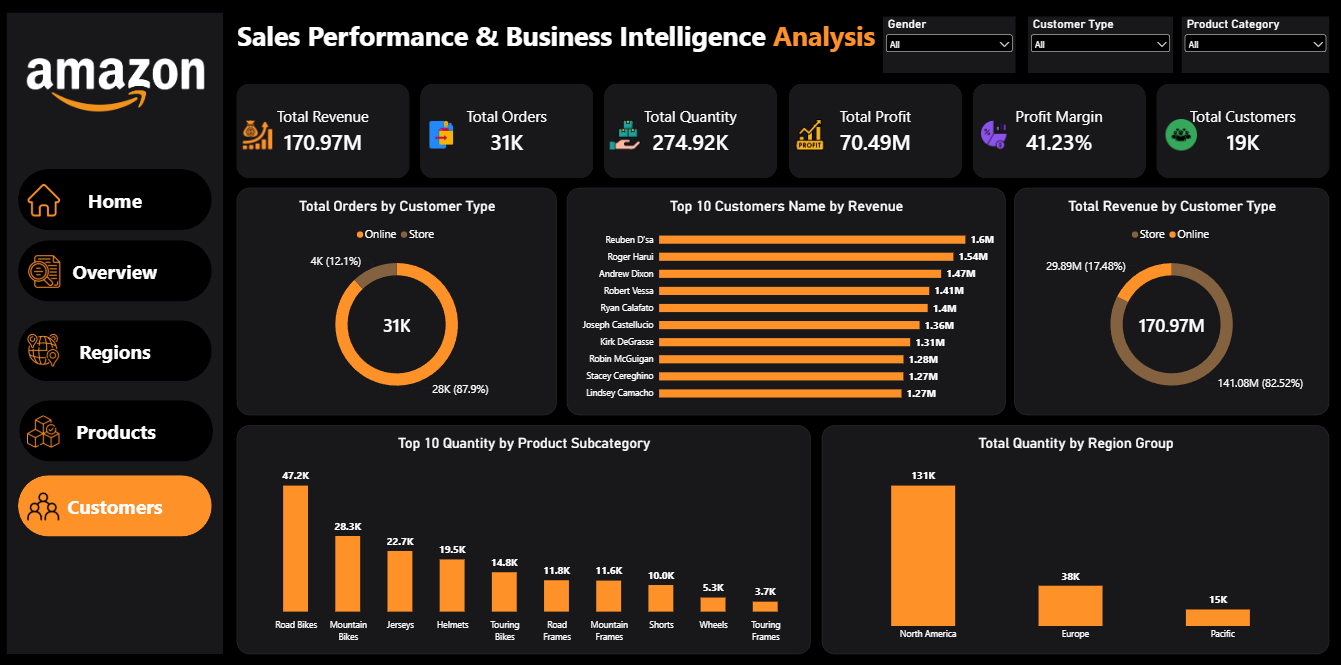

The dashboard page shown, as its layout file describes it:
{"tool":"powerbi","page":{"name":"Customers","canvas":[2150,1080],"ordinal":4},"visuals":[{"type":"textbox","box":[382,28,1022,86],"z":0},{"type":"cardVisual","fields":{"Data":["Sales 2011 to 2014.Total Revenue"]},"box":[382,136,276,150],"z":0,"group":"g1"},{"type":"cardVisual","fields":{"Data":["Sales 2011 to 2014.Total Orders"]},"box":[676,136,276,150],"z":1000,"group":"g1"},{"type":"columnChart","title":"Total Quantity by Region Group","fields":{"Category":["Regions.Region Group"],"Y":["Sales 2011 to 2014.Total Quantity"]},"box":[1318,682,812,366],"z":1000},{"type":"cardVisual","fields":{"Data":["Sales 2011 to 2014.Total Quantity"]},"box":[970,136,276,150],"z":2000,"group":"g1"},{"type":"barChart","title":"Top 10 Customers Name by Revenue","fields":{"Category":["Customers.Full Name"],"Y":["Sales 2011 to 2014.Total Revenue"]},"box":[910,302,702,364],"z":2000},{"type":"cardVisual","fields":{"Data":["Sales 2011 to 2014.Total Profit"]},"box":[1266,136,276,150],"z":3000,"group":"g1"},{"type":"donutChart","fields":{"Category":["Customers.Store Type"],"Y":["Sales 2011 to 2014.Total Orders"]},"box":[382,302,512,364],"z":3000},{"type":"slicer","fields":{"Values":["Customers.Gender"]},"box":[1416,28,212,90],"z":4000},{"type":"cardVisual","fields":{"Data":["Sales 2011 to 2014.Profit Margin"]},"box":[1560,136,276,150],"z":4000,"group":"g1"},{"type":"slicer","fields":{"Values":["Customers.Store Type"]},"box":[1648,28,232,90],"z":5000},{"type":"cardVisual","fields":{"Data":["Customers.Total Customers"]},"box":[1854,136,276,150],"z":5000,"group":"g1"},{"type":"slicer","fields":{"Values":["Products.Product Category"]},"box":[1894,28,236,90],"z":6000},{"type":"shape","box":[14,22,346,1026],"z":7000},{"type":"shape","box":[32,272,310,98],"z":8000},{"type":"image","box":[36,296,74,52],"z":9000},{"type":"shape","box":[32,386,310,98],"z":10000},{"type":"image","box":[42,410,64,52],"z":11000},{"type":"shape","box":[32,514,310,98],"z":12000},{"type":"shape","box":[34,642,310,98],"z":13000},{"type":"shape","box":[32,762,310,98],"z":14000},{"type":"image","box":[40,536,64,52],"z":15000},{"type":"image","box":[40,786,64,52],"z":16000},{"type":"columnChart","title":"Top 10  Quantity by Product Subcategory","fields":{"Category":["Products.Product Subcategory"],"Y":["Sales 2011 to 2014.Total Quantity"]},"box":[382,682,918,366],"z":18000},{"type":"image","box":[40,666,64,52],"z":19000},{"type":"group","id":"g1","title":"Group 1","box":[382,136,1748,150],"z":20000},{"type":"image","box":[382,192,66,50],"z":21000},{"type":"image","box":[676,192,66,50],"z":22000},{"type":"image","box":[970,192,66,50],"z":23000},{"type":"image","box":[1266,192,66,50],"z":24000},{"type":"image","box":[1560,192,66,50],"z":25000},{"type":"image","box":[1860,192,66,50],"z":26000},{"type":"donutChart","fields":{"Category":["Customers.Store Type"],"Y":["Sales 2011 to 2014.Total Revenue"]},"box":[1626,302,504,364],"z":27000},{"type":"image","box":[46,80,284,114],"z":27001}]}

Visuals, with their boxes in screenshot pixels (x1, y1, x2, y2), scaled from the page's 2150x1080 canvas onto the 1341x665 screenshot:
textbox: [x1=238, y1=17, x2=876, y2=70]
cardVisual - Sales 2011 to 2014.Total Revenue: [x1=238, y1=84, x2=410, y2=176]
cardVisual - Sales 2011 to 2014.Total Orders: [x1=422, y1=84, x2=594, y2=176]
"Total Quantity by Region Group" columnChart: [x1=822, y1=420, x2=1329, y2=645]
cardVisual - Sales 2011 to 2014.Total Quantity: [x1=605, y1=84, x2=777, y2=176]
"Top 10 Customers Name by Revenue" barChart: [x1=568, y1=186, x2=1005, y2=410]
cardVisual - Sales 2011 to 2014.Total Profit: [x1=790, y1=84, x2=962, y2=176]
donutChart - Customers.Store Type x Sales 2011 to 2014.Total Orders: [x1=238, y1=186, x2=558, y2=410]
slicer - Customers.Gender: [x1=883, y1=17, x2=1015, y2=73]
cardVisual - Sales 2011 to 2014.Profit Margin: [x1=973, y1=84, x2=1145, y2=176]
slicer - Customers.Store Type: [x1=1028, y1=17, x2=1173, y2=73]
cardVisual - Customers.Total Customers: [x1=1156, y1=84, x2=1329, y2=176]
slicer - Products.Product Category: [x1=1181, y1=17, x2=1329, y2=73]
shape: [x1=9, y1=14, x2=225, y2=645]
shape: [x1=20, y1=167, x2=213, y2=228]
image: [x1=22, y1=182, x2=69, y2=214]
shape: [x1=20, y1=238, x2=213, y2=298]
image: [x1=26, y1=252, x2=66, y2=284]
shape: [x1=20, y1=316, x2=213, y2=377]
shape: [x1=21, y1=395, x2=215, y2=456]
shape: [x1=20, y1=469, x2=213, y2=530]
image: [x1=25, y1=330, x2=65, y2=362]
image: [x1=25, y1=484, x2=65, y2=516]
"Top 10  Quantity by Product Subcategory" columnChart: [x1=238, y1=420, x2=811, y2=645]
image: [x1=25, y1=410, x2=65, y2=442]
"Group 1" group: [x1=238, y1=84, x2=1329, y2=176]
image: [x1=238, y1=118, x2=279, y2=149]
image: [x1=422, y1=118, x2=463, y2=149]
image: [x1=605, y1=118, x2=646, y2=149]
image: [x1=790, y1=118, x2=831, y2=149]
image: [x1=973, y1=118, x2=1014, y2=149]
image: [x1=1160, y1=118, x2=1201, y2=149]
donutChart - Customers.Store Type x Sales 2011 to 2014.Total Revenue: [x1=1014, y1=186, x2=1329, y2=410]
image: [x1=29, y1=49, x2=206, y2=119]
